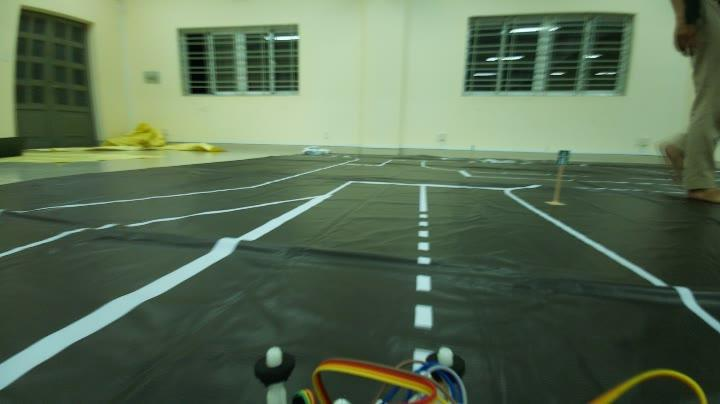highway_entry: (553, 141, 575, 170)
